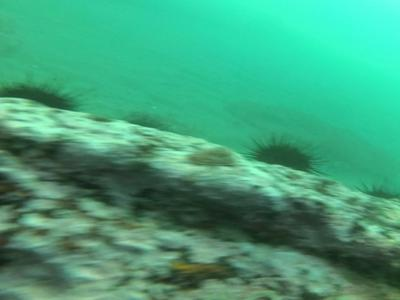urchin: (242, 133, 332, 178), (3, 79, 75, 112)
